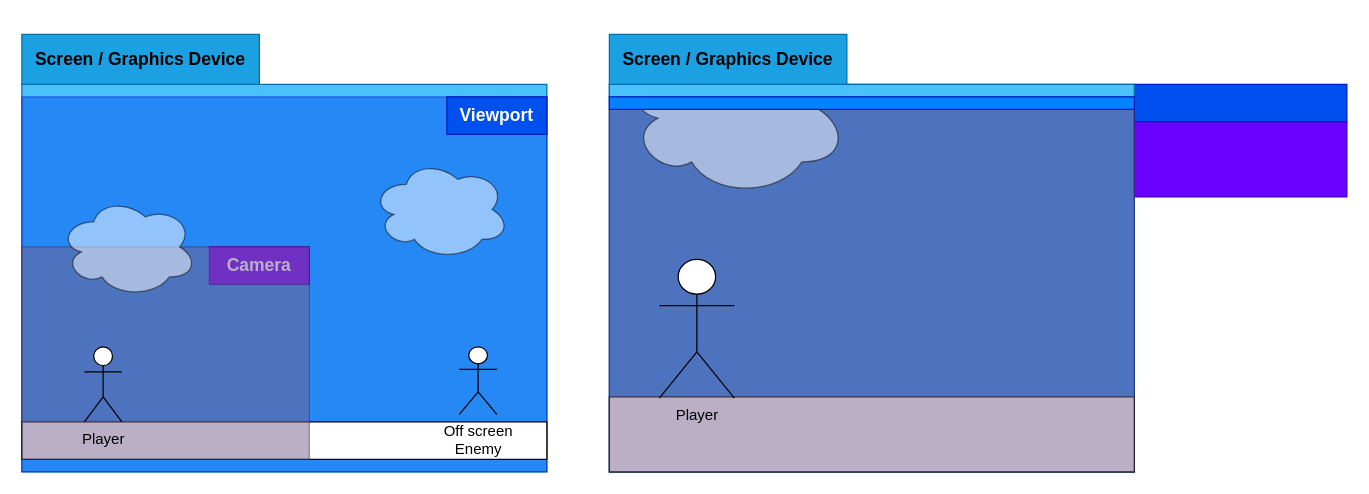
Image size: 1369x494. Some labels were removed from this diagram. The centre of each missing label's shape, as x and y in pixels:
"Camera (400, 320) Position (0, 320)" belongs at point (1240, 159).
"Viewport (800, 640)" belongs at point (1240, 102).
